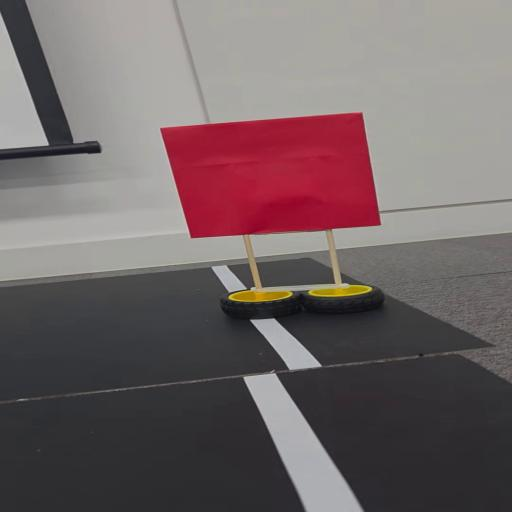Sign_A: (155, 110, 400, 326)
